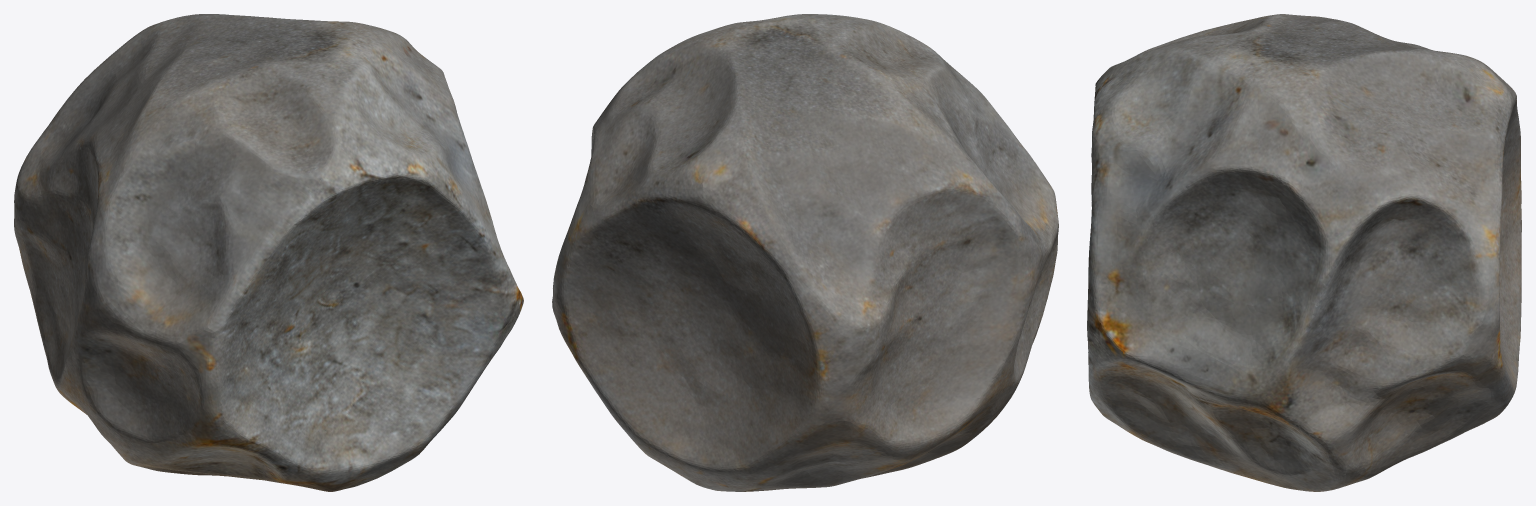
File: mdl_rock_001.glb
3 renders of one model, left to right at view 1: azimuth 30°, elevation 25°; view 2: azimuth 150°, elevation 25°; view 3: azimuth 270°, elevation 25°, orthographic. The views are drawn at different scales.
Visible parts, largest first — view 1: tmp31ittxdl.ply; view 2: tmp31ittxdl.ply; view 3: tmp31ittxdl.ply.
Part boxes in pixels (x1,y1,x2,y2): tmp31ittxdl.ply: [14, 14, 523, 491]; tmp31ittxdl.ply: [552, 14, 1058, 491]; tmp31ittxdl.ply: [1087, 14, 1521, 491].
Bounding box in the file's own units: 0.9893 × 0.9012 × 0.8719.
Materials: 1 (1 with a texture image).
